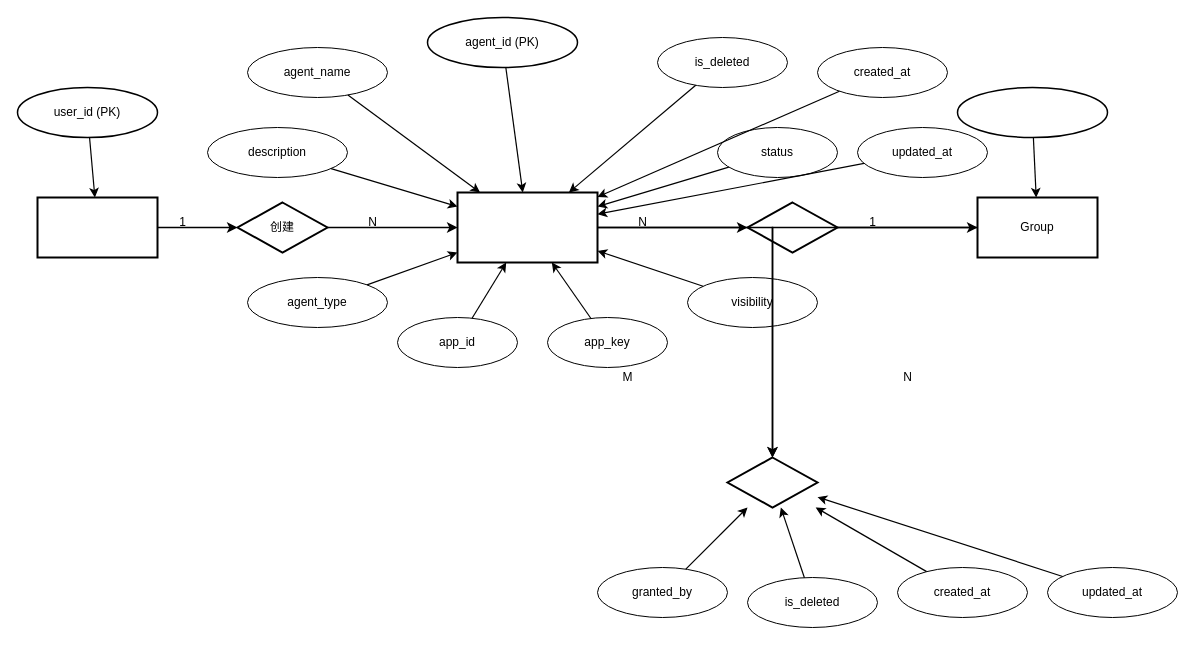
Some shapes in this 1196 by 646 pixel diagram are drawn without their labels. Each missing label, with the centre of its shape:
Agent: the point at 527,227
group_id (PK): the point at 1032,112
User: the point at 97,227
归属: the point at 792,227
授权: the point at 772,482
